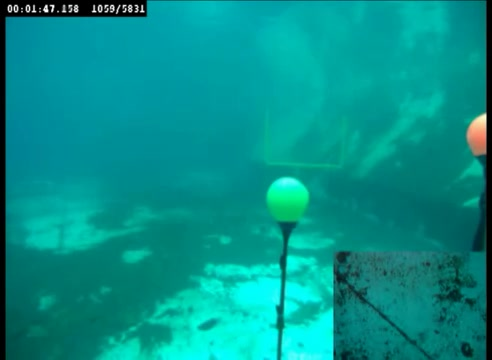buoy_green: (265, 175, 310, 229)
